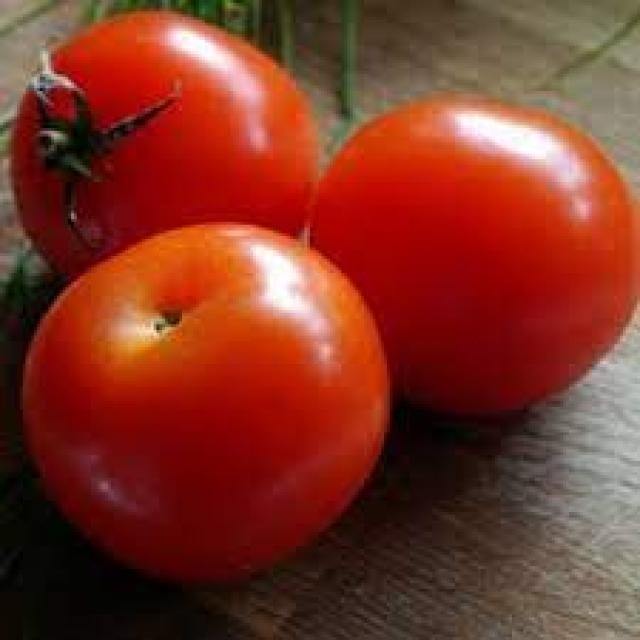Fresh_tomato: (23, 256, 380, 578), (339, 84, 640, 410), (18, 21, 316, 253)
